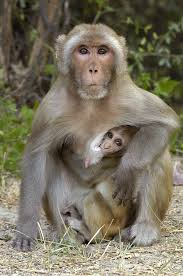monkey: (28, 17, 178, 237), (89, 113, 157, 260)
